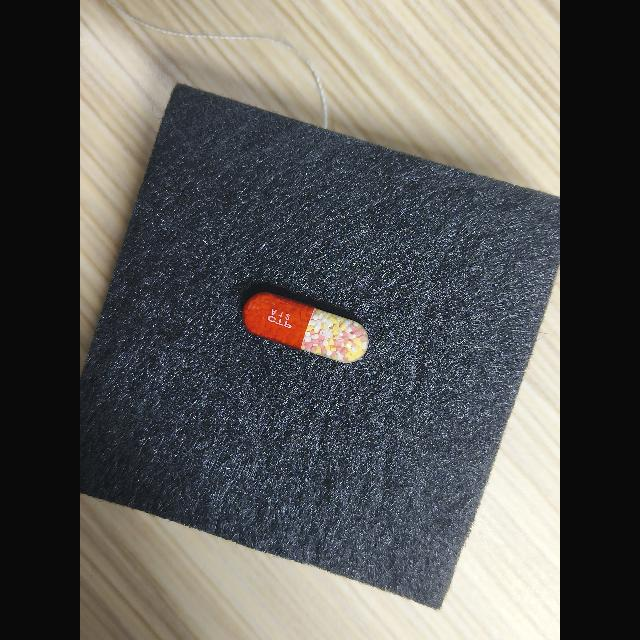Intact Capsule: (242, 292, 369, 363)
